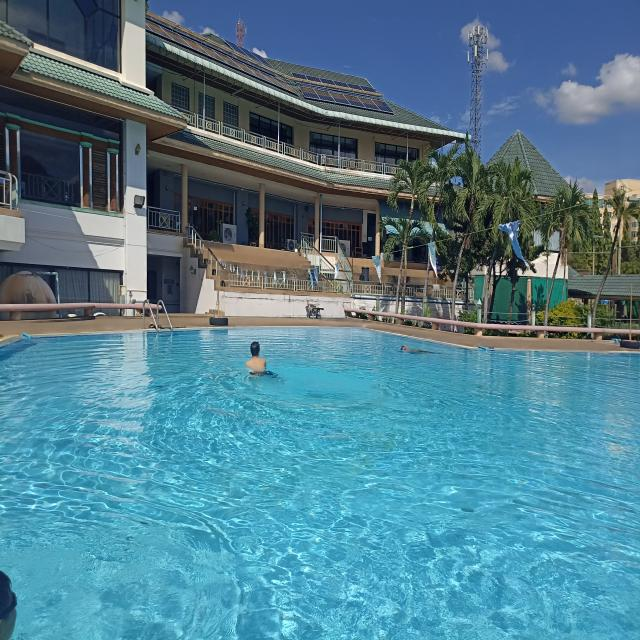Swimming: (234, 326, 271, 384)
